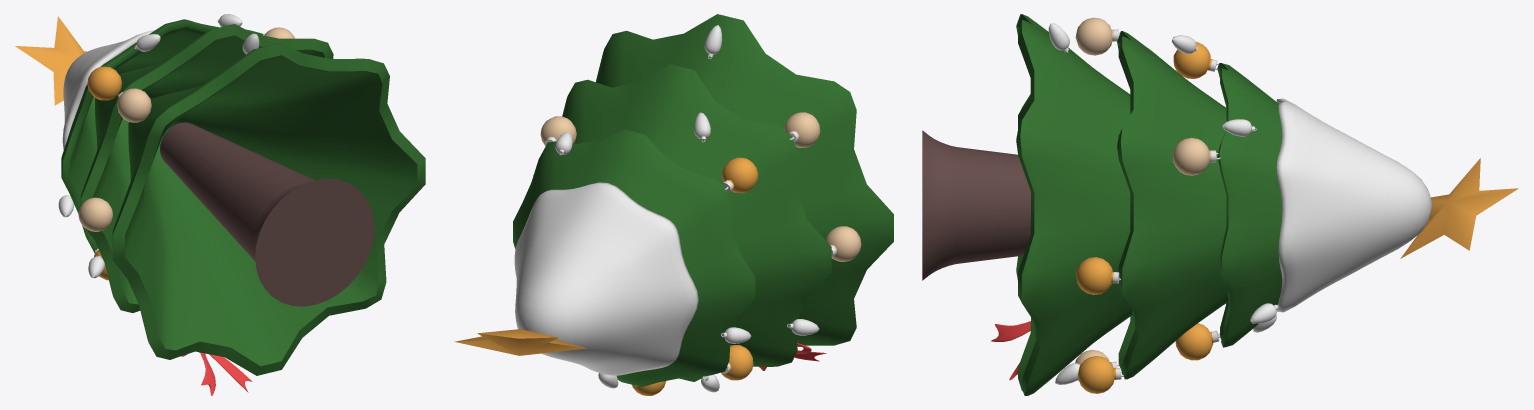
Rendered from Christmas Tree.dae.
3 renders of one model, left to right at view 1: azimuth 30°, elevation 25°; view 2: azimuth 150°, elevation 25°; view 3: azimuth 270°, elevation 25°, orthographic. The views are drawn at different scales.
Visible parts, largest first — view 1: Cube.009, Cylinder.002, Cube.007, Cube.008, Cube.010, Circle, Cube.015, Cube.016, Cube.026, Plane.002; view 2: Cube.010, Cube.007, Cube.009, Cube.008, Circle, Cube.016, Cube.026, Cube.015, Cube.012, Cube.017, Cube.025; view 3: Cube.009, Cube.007, Cube.010, Cube.008, Cylinder.002, Circle, Cube.017, Cube.013, Cube.015, Cube.028, Cube.011, Cube.016 (+1 smaller).
Part boxes in pixels (x1,y1,x2,y2): Cube.009: (112, 43, 425, 375); Cylinder.002: (160, 122, 374, 306); Cube.007: (80, 24, 333, 312); Cube.008: (61, 19, 263, 252); Cube.010: (62, 30, 154, 149); Circle: (15, 16, 86, 105); Cube.015: (117, 88, 151, 122); Cube.016: (87, 66, 121, 100); Cube.026: (78, 197, 112, 231); Plane.002: (181, 352, 252, 395); Cube.010: (514, 182, 698, 375); Cube.007: (562, 64, 831, 381); Cube.009: (596, 14, 893, 345); Cube.008: (513, 129, 755, 386); Circle: (454, 329, 586, 355); Cube.016: (722, 157, 758, 193); Cube.026: (825, 226, 861, 261); Cube.015: (784, 112, 820, 147); Cube.012: (721, 345, 753, 380); Cube.017: (540, 116, 576, 144); Cube.025: (704, 25, 722, 54); Cube.009: (1016, 14, 1132, 395); Cube.007: (1117, 31, 1228, 379); Cube.010: (1276, 98, 1432, 312); Cube.008: (1217, 63, 1282, 347); Cylinder.002: (922, 130, 1030, 280); Circle: (1400, 158, 1518, 258); Cube.017: (1172, 137, 1211, 175); Cube.013: (1077, 356, 1116, 393); Cube.015: (1075, 17, 1114, 55); Cube.028: (1076, 257, 1113, 294); Cube.011: (1175, 323, 1213, 360); Cube.016: (1173, 41, 1212, 78).
Size of the model in its own units: 2.5 by 3.78 by 2.59.
